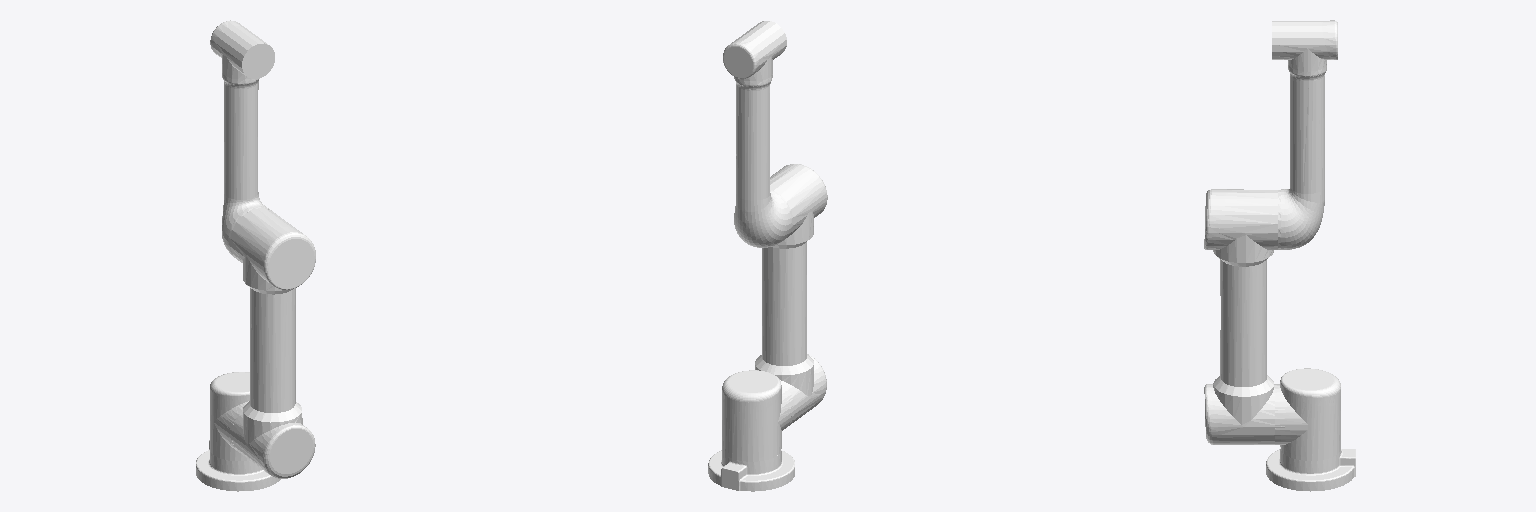
robot.urdf — aubo_iS7_F1:
<?xml version="1.0"?>
<robot  name="aubo_iS7_F1">
  <dh_type type="modified"/>
  <safety_para singularity_consistent="0.02 0.01 10 0.2 0.045 10"/>
  <friction_coeff value="0.65"/>	
  <link name="base_link">
    <inertial>
      <origin xyz="-0.00001 0.00527 0.01622" rpy="0 0 0" />
      <mass value="1.0774" />
      <inertia ixx="0.00238" ixy="7.8809E-15" ixz="8.5328E-16" iyy="0.00204" iyz="-0.00004" izz="0.00409" />
    </inertial>
    <visual>
      <origin xyz="0 0 0" rpy="0 0 0" />
      <geometry>
        <mesh filename="package://aubo_description/meshes/aubo_iS7_F1/collision/link0.STL" />
      </geometry>
      <material name="">
        <color rgba="1 1 1 1" />
      </material>
    </visual>
    <collision>
      <origin xyz="0 0 0" rpy="0 0 0" />
      <geometry>
        <mesh filename="package://aubo_description/meshes/aubo_iS7_F1/collision/link0.STL" />
      </geometry>
    </collision>
  </link>

  <link name="shoulder_Link">
    <inertial>
      <origin xyz="-0.00001 0.00195 -0.01922" rpy="0 0 0" />
      <mass value="4.414" />
      <inertia ixx="0.00971" ixy="0" ixz="0" iyy="0.00966" iyz="-0.00016" izz="0.00732" />
    </inertial>
    <visual>
      <origin xyz="0 0 0" rpy="0 0 0" />
      <geometry>
        <mesh filename="package://aubo_description/meshes/aubo_iS7_F1/collision/link1.STL" />
      </geometry>
      <material name="">
        <color rgba="1 1 1 1" />
      </material>
    </visual>
    <collision>
      <origin xyz="0 0 0" rpy="0 0 0" />
      <geometry>
        <mesh filename="package://aubo_description/meshes/aubo_iS7_F1/collision/link1.STL" />
      </geometry>
    </collision>
  </link>

  <joint name="shoulder_joint" type="revolute">
    <origin xyz="0 0 0.122" rpy="0 0 3.1415926535897932384626433832795" />
    <parent link="base_link" />
    <child link="shoulder_Link" />
    <axis xyz="0 0 1" />
    <limit lower="-6.283185307179586476925286766559" upper="6.283185307179586476925286766559" effort="133" start_stop="204" velocity="4.146902" />
    <property inertia="2.0" damping="0" stiffness="0" offset="0" motor_constant="7.05" ratio="101" protect_max_torque="80.0" equa_inertia="1.5" collision_detection_para = "50 50 30 20"/>
  </joint>

  <link name="upperArm_Link">
    <inertial>
      <origin xyz="0.2040 -0.00165 0.00" rpy="0 0 0" />
      <mass value="9.78015" />
      <inertia ixx="0.02162" ixy="0" ixz="0.00002" iyy="0.38612" iyz="0" izz="0.3912" />
    </inertial>
    <visual>
      <origin xyz="0 0 0" rpy="0 0 0" />
      <geometry>
        <mesh filename="package://aubo_description/meshes/aubo_iS7_F1/collision/link2.STL" />
      </geometry>
      <material name="">
        <color rgba="1 1 1 1" />
      </material>
    </visual>
    <collision>
      <origin xyz="0 0 0" rpy="0 0 0" />
      <geometry>
        <mesh filename="package://aubo_description/meshes/aubo_iS7_F1/collision/link2.STL" />
      </geometry>
    </collision>
  </link>

  <joint name="upperArm_joint" type="revolute">
    <origin xyz="0 0.1215 0" rpy="-1.5707963267948966192313216916398 -1.5707963267948966192313216916398 0" />
    <parent link="shoulder_Link" />
    <child link="upperArm_Link" />
    <axis xyz="0 0 1" />
    <limit lower="-6.283185307179586476925286766559" upper="6.283185307179586476925286766559" effort="133" start_stop="207" velocity="4.146902" />
    <property inertia="2.0" damping="0" stiffness="0" offset="0" motor_constant="7.05" ratio="101" protect_max_torque="80.0" equa_inertia="1.5" collision_detection_para = "50 50 30 20"/>
  </joint>

  <link name="foreArm_Link">
    <inertial>
      <origin xyz="0.27656 -0.00002 0.0912" rpy="0 0 0" />
      <mass  value="2.50655" />
      <inertia ixx="0.00296" ixy="0" ixz="0.00042" iyy="0.05259" iyz="0" izz="0.05208" />
    </inertial>
    <visual>
      <origin xyz="0 0 0" rpy="0 0 0" />
      <geometry>
        <mesh filename="package://aubo_description/meshes/aubo_iS7_F1/collision/link3.STL" />
      </geometry>
      <material name="">
        <color rgba="1 1 1 1" />
      </material>
    </visual>
    <collision>
      <origin xyz="0 0 0" rpy="0 0 0" />
      <geometry>
        <mesh filename="package://aubo_description/meshes/aubo_iS7_F1/collision/link3.STL" />
      </geometry>
    </collision>
  </link>

  <joint name="foreArm_joint" type="revolute">
    <origin xyz="0.408 0 0" rpy="-3.1415926535897932384626433832795 0 0" />
    <parent link="upperArm_Link" />
    <child link="foreArm_Link" />
    <axis xyz="0 0 1" />
    <limit lower="-6.283185307179586476925286766559" upper="6.283185307179586476925286766559" effort="133" start_stop="207" velocity="4.146902" />
    <property inertia="2.0" damping="0" stiffness="0" offset="0" motor_constant="7.05" ratio="101" protect_max_torque="60.0" equa_inertia="1.2" collision_detection_para = "50 50 30 20"/>
  </joint>

  <link name="wrist1_Link">
    <inertial>
      <origin xyz="0.00002 0.01469 -0.00169" rpy="0 0 0" />
      <mass value="1.49768" />
      <inertia ixx="0.00163" ixy="0" ixz="0" iyy="0.00101" iyz="-0.00004" izz="0.0016" />
    </inertial>
    <visual>
      <origin xyz="0 0 0" rpy="0 0 0" />
      <geometry>
        <mesh filename="package://aubo_description/meshes/aubo_iS7_F1/collision/link4.STL" />
      </geometry>
      <material name="">
        <color rgba="1 1 1 1" />
      </material>
    </visual>
    <collision>
      <origin xyz="0 0 0" rpy="0 0 0" />
      <geometry>
        <mesh filename="package://aubo_description/meshes/aubo_iS7_F1/collision/link4.STL" />
      </geometry>
    </collision>
  </link>

  <joint name="wrist1_joint" type="revolute">
    <origin xyz="0.376 0 0" rpy="3.1415926535897932384626433832795 0 1.5707963267948966192313216916398" />
    <parent link="foreArm_Link" />
    <child link="wrist1_Link" />
    <axis xyz="0 0 1" />
    <limit lower="-6.283185307179586476925286766559" upper="6.283185307179586476925286766559" effort="13.5" start_stop="34" velocity="5.17141" />
    <property inertia="0.15" damping="0" stiffness="0" offset="0" motor_constant="5.94" ratio="81" protect_max_torque="16.0" equa_inertia="0.05" collision_detection_para = "50 50 30 20"/>
  </joint>

  <link name="wrist2_Link">
    <inertial>
      <origin xyz="-0.00002 -0.01469 -0.00169" rpy="0 0 0" />
      <mass value="1.49768" />
      <inertia ixx="0.00163" ixy="0" ixz="0" iyy="0.00102" iyz="0" izz="0.00193" />
    </inertial>
    <visual>
      <origin xyz="0 0 0" rpy="0 0 0" />
      <geometry>
        <mesh filename="package://aubo_description/meshes/aubo_iS7_F1/collision/link5.STL" />
      </geometry>
      <material name="">
        <color rgba="1 1 1 1" />
      </material>
    </visual>
    <collision>
      <origin xyz="0 0 0" rpy="0 0 0" />
      <geometry>
        <mesh filename="package://aubo_description/meshes/aubo_iS7_F1/collision/link5.STL" />
      </geometry>
    </collision>
  </link>

  <joint name="wrist2_joint" type="revolute">
    <origin xyz="0 0.1025 0" rpy="-1.5707963267948966192313216916398 0 0" />
    <parent link="wrist1_Link" />
    <child link="wrist2_Link" />
    <axis xyz="0 0 1" />
    <limit lower="-6.283185307179586476925286766559" upper="6.283185307179586476925286766559" effort="13.5" start_stop="34" velocity="5.17141" />
    <property inertia="0.15" damping="0" stiffness="0" offset="0" motor_constant="5.94" ratio="81" protect_max_torque="16.0" equa_inertia="0.05" collision_detection_para = "50 50 30 20"/>
  </joint>

  <link name="wrist3_Link">
    <inertial>
      <origin xyz="-0.000244 0.002074 -0.026592" rpy="0 0 0" />
      <mass value="0.443496" />
      <inertia ixx="0.000272" ixy="-0.000003" ixz="-0.000002" iyy="0.00029" iyz="0.000013" izz="0.000357" />
    </inertial>
    <visual>
      <origin xyz="0 0 0" rpy="0 0 0" />
      <geometry>
        <mesh filename="package://aubo_description/meshes/aubo_iS7_F1/collision/link6.STL" />
      </geometry>
      <material name="">
        <color rgba="1 1 1 1" />
      </material>
    </visual>
    <collision>
      <origin xyz="0 0 0" rpy="0 0 0" />
      <geometry>
        <mesh filename="package://aubo_description/meshes/aubo_iS7_F1/collision/link6.STL" />
      </geometry>
    </collision>
  </link>

  <joint name="wrist3_joint" type="revolute">
    <origin xyz="0 -0.116 0" rpy="1.5707963267948966192313216916398 0 1.7907E-15" />
    <parent link="wrist2_Link" />
    <child link="wrist3_Link" />
    <axis xyz="0 0 1" />
    <limit lower="-6.283185307179586476925286766559" upper="6.283185307179586476925286766559" effort="13.5" start_stop="34" velocity="5.17141" />
    <property inertia="0.15" damping="0" stiffness="0" offset="0" motor_constant="5.94" ratio="81" protect_max_torque="10.0" equa_inertia="0.01" collision_detection_para = "50 50 30 20"/>
  </joint>

  <link name="world" />

  <joint name="world_joint" type="fixed">
    <parent link="world" />
    <child link = "base_link" />
    <origin xyz="0.0 0.0 0.0" rpy="0.0 0.0 0.0" />
  </joint>
</robot>

--- What the picture shows (computed from the rendered views, not written in the file) ---
3 views of the same robot in one strip: view 1: azimuth 30°, elevation 25°; view 2: azimuth 150°, elevation 25°; view 3: azimuth 270°, elevation 25° (orthographic).
Robot: aubo_iS7_F1 — 8 links, 7 joints (6 revolute, 1 fixed); root link world; default pose: every joint at zero.
Links seen in each view (by area): view 1: upperArm_Link, foreArm_Link, shoulder_Link, base_link; view 2: upperArm_Link, foreArm_Link, shoulder_Link, base_link; view 3: upperArm_Link, foreArm_Link, shoulder_Link, base_link.
Boxes of the visible links, bbox=[...] form: upperArm_Link: bbox=[226, 208, 315, 478]; foreArm_Link: bbox=[210, 20, 274, 257]; shoulder_Link: bbox=[210, 372, 249, 460]; base_link: bbox=[196, 440, 280, 491]; upperArm_Link: bbox=[755, 164, 827, 425]; foreArm_Link: bbox=[723, 21, 792, 247]; shoulder_Link: bbox=[722, 370, 794, 461]; base_link: bbox=[708, 450, 794, 491]; upperArm_Link: bbox=[1204, 189, 1284, 444]; foreArm_Link: bbox=[1272, 20, 1337, 249]; shoulder_Link: bbox=[1275, 368, 1340, 460]; base_link: bbox=[1266, 447, 1355, 491].
Bounding box of the posed robot: 0.17 × 0.2874 × 0.9445 m (x, y, z).
Meshes: 7 distinct files referenced, 4 mesh visuals loaded (4 binary STL); not drawn: 3 (reference not matched to a file when rendering).
